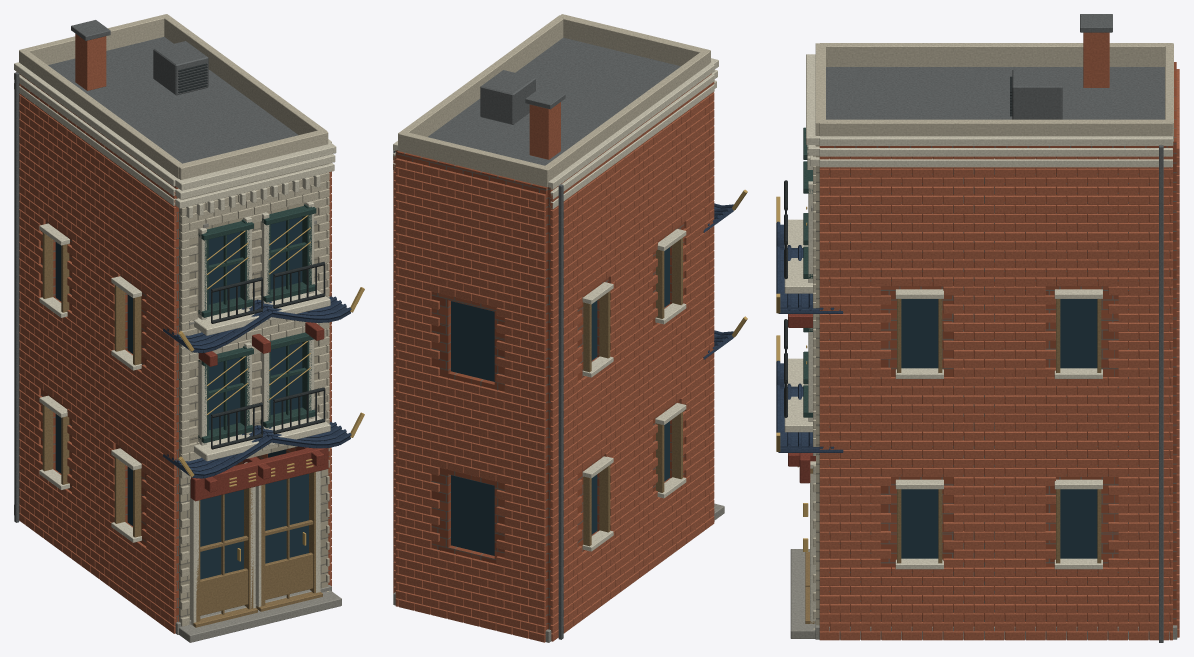
File: CHINA17_lod0.glb
The picture shows the model from 3 angles, left to right: view 1: azimuth 30°, elevation 25°; view 2: azimuth 150°, elevation 25°; view 3: azimuth 270°, elevation 25°; orthographic projection. The views are drawn at different scales.
Parts seen in each view (by area): view 1: CHINA17_LOD0; view 2: CHINA17_LOD0; view 3: CHINA17_LOD0.
Part boxes in pixels (<box>): CHINA17_LOD0: <box>14,14,364,642</box>; CHINA17_LOD0: <box>393,14,747,642</box>; CHINA17_LOD0: <box>776,14,1179,642</box>.
Size of the model in its own units: 4.01 by 10.45 by 6.85.
19 materials, 16 textured.
